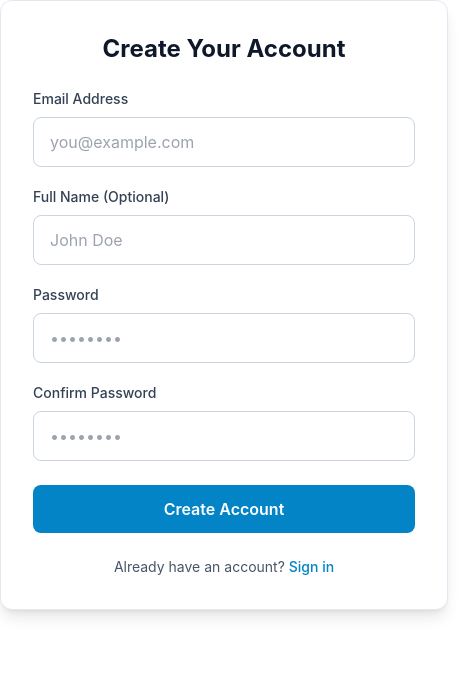
RegisterForm Component › Form Validation › should show error when passwords do not match
The image size is (465, 684).
Type "password123" into the password field labelled "Password".
click(224, 338); type("password123")  # box x1=33 y1=313 x2=415 y2=363
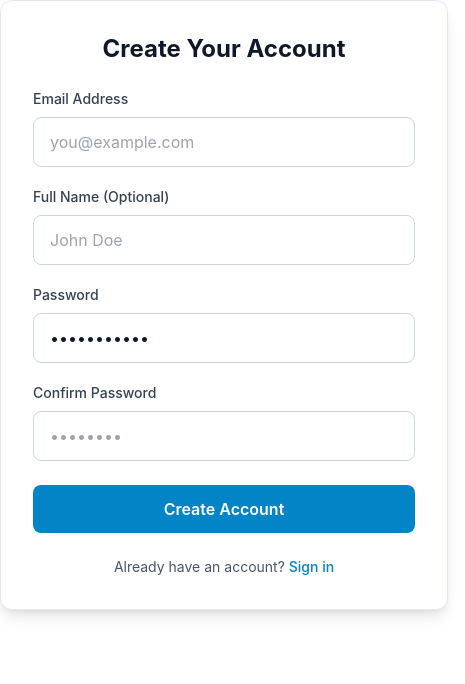
Type "password456" into the password field labelled "Confirm Password".
click(224, 436); type("password456")  # box x1=33 y1=411 x2=415 y2=461
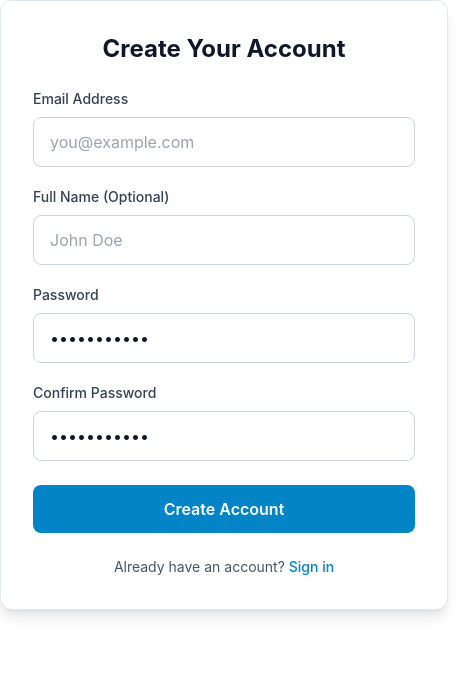
Click the button "Create Account".
click(224, 509)  # box x1=33 y1=485 x2=415 y2=533
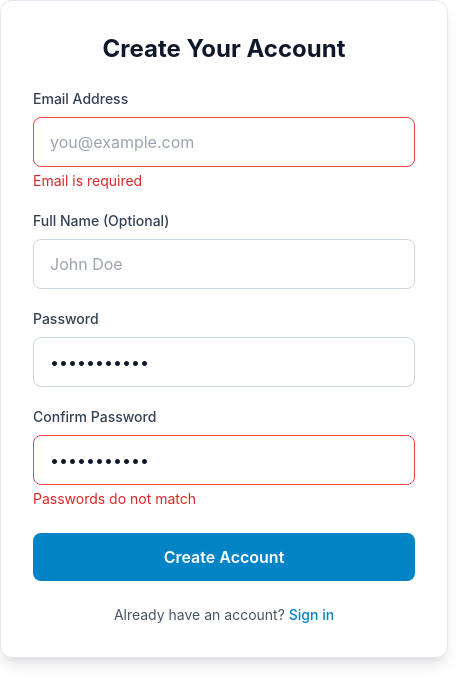
Now the text "Passwords do not match" is shown, box x1=33 y1=490 x2=196 y2=507
